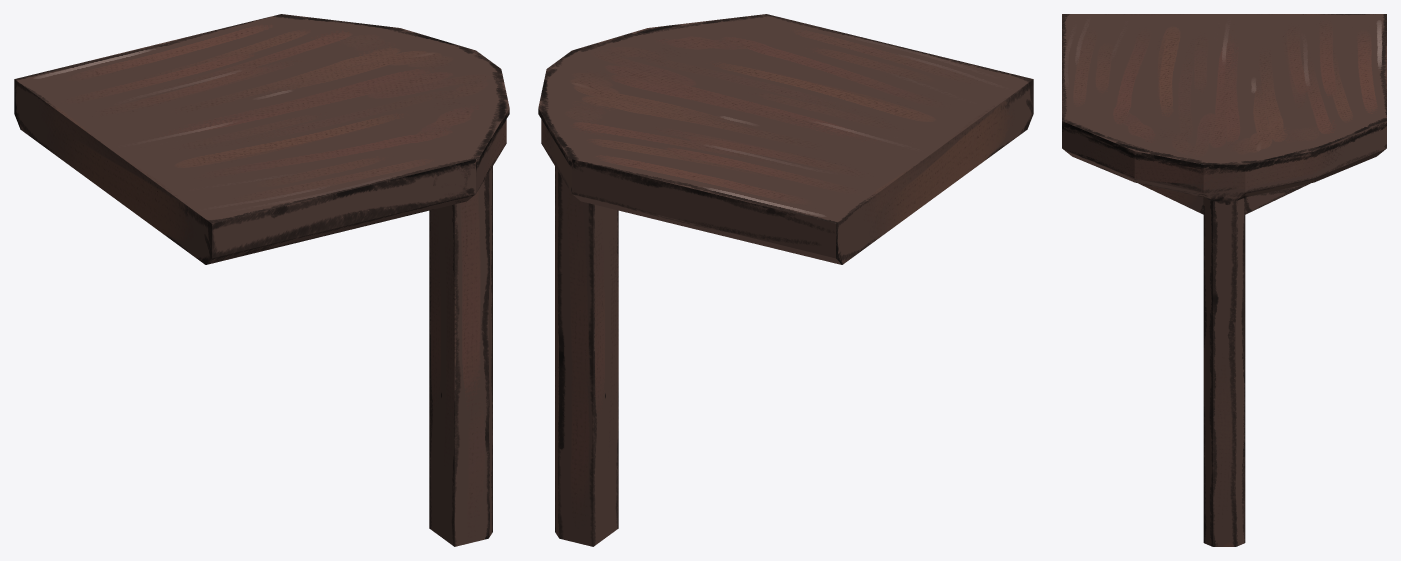
The model's file is tabletrain (2).fbx.
3 renders of one model, left to right at view 1: azimuth 30°, elevation 25°; view 2: azimuth 150°, elevation 25°; view 3: azimuth 270°, elevation 25°, orthographic. The views are drawn at different scales.
Visible parts, largest first — view 1: Cube; view 2: Cube; view 3: Cube.
Part boxes in pixels (<box>): Cube: <box>14,14,509,546</box>; Cube: <box>538,14,1033,546</box>; Cube: <box>1062,14,1386,546</box>.
Size of the model in its own units: 84.84 by 101 by 77.26.
